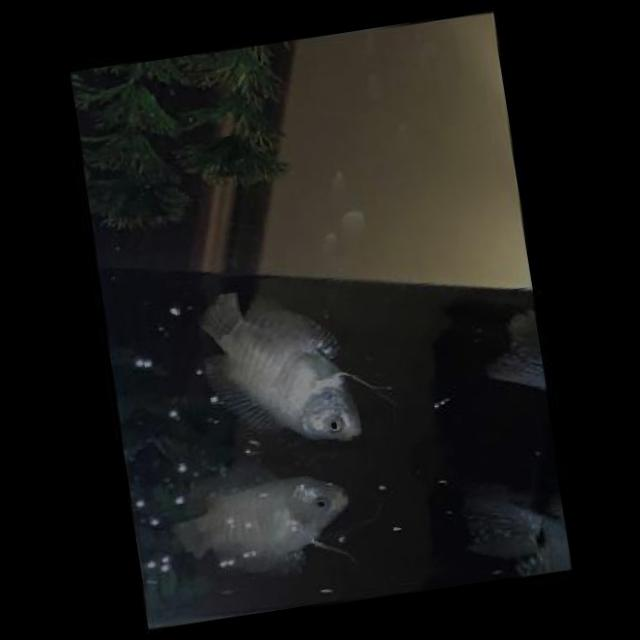Gourami: (182, 268, 364, 464)
